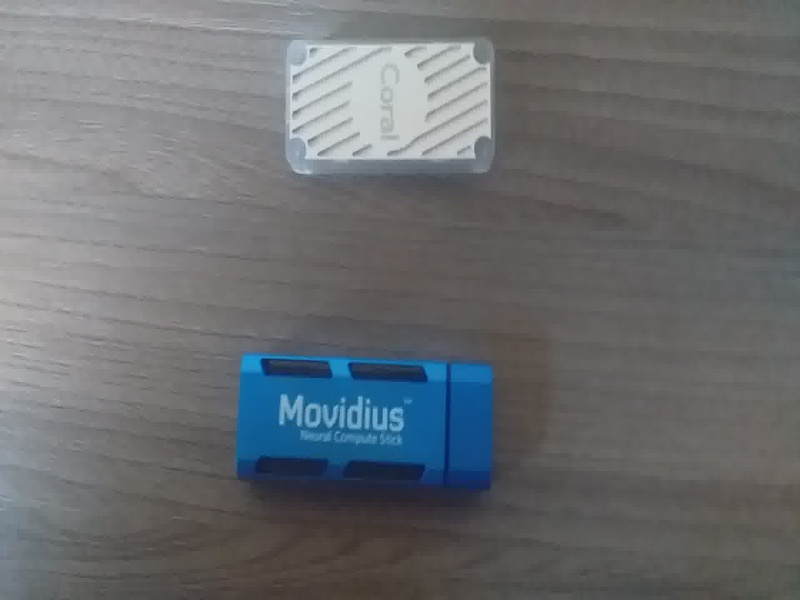coral: (276, 32, 506, 190)
movidius: (231, 341, 507, 506)
